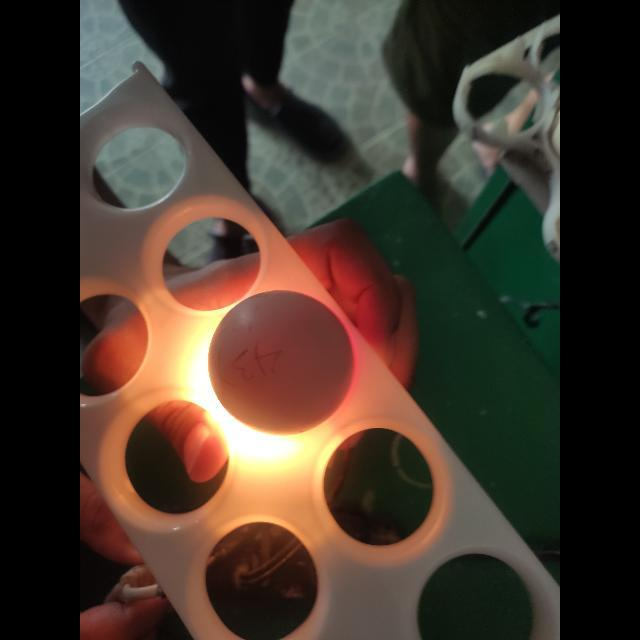Fertile: (202, 292, 356, 438)
